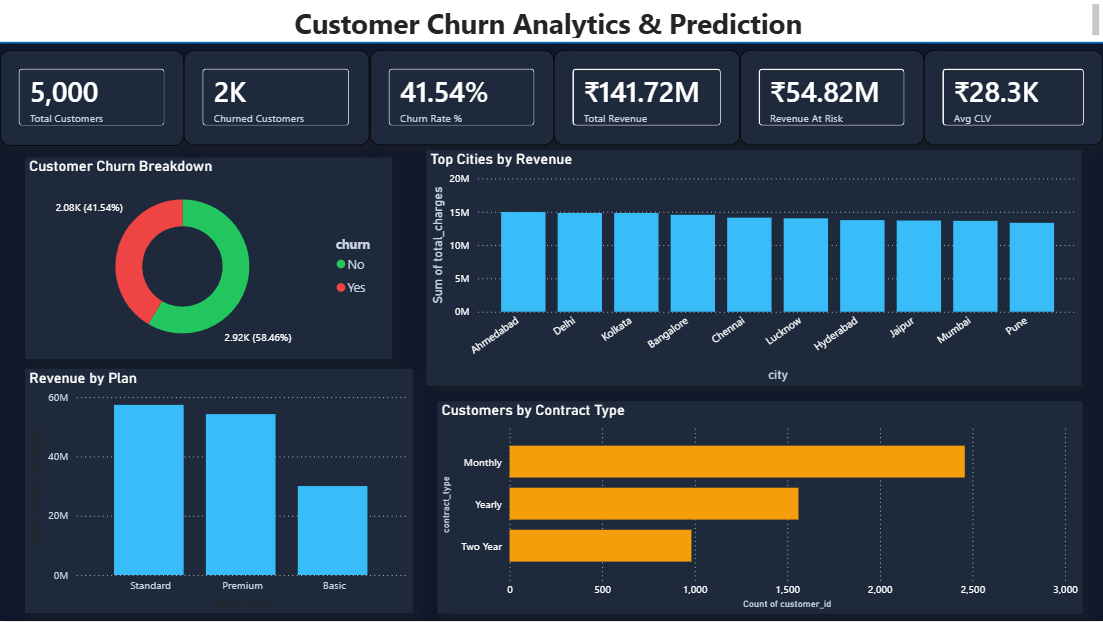

This screenshot's page, from the dashboard's own definition file:
{"tool":"powerbi","page":{"name":"Executive Overview","canvas":[1280,720],"ordinal":0},"visuals":[{"type":"textbox","box":[0,0,1279.7,49.3],"z":0},{"type":"shape","box":[0,41.9,1279.7,14.9],"z":1000},{"type":"cardVisual","fields":{"Data":["Measures .Total Customers"]},"box":[0,58.1,213.5,110.8],"z":2000},{"type":"cardVisual","fields":{"Data":["Measures .Churned Customers"]},"box":[213.6,58.1,214.9,110],"z":3000},{"type":"cardVisual","fields":{"Data":["Measures .Churn Rate %"]},"box":[428.5,58.1,213.2,110],"z":4000},{"type":"cardVisual","fields":{"Data":["Measures .Total Revenue"]},"box":[641.8,58.1,216.2,110.3],"z":5000},{"type":"cardVisual","fields":{"Data":["Measures .Revenue At Risk"]},"box":[858,58.1,213.5,110],"z":6000},{"type":"cardVisual","fields":{"Data":["Measures .Avg CLV"]},"box":[1071.6,58.1,208.1,110],"z":7000},{"type":"donutChart","title":"Customer Churn Breakdown","fields":{"Category":["customers.churn"],"Y":["CountNonNull(customers.customer_id)"]},"box":[29.6,183.1,425.4,233.8],"z":8000},{"type":"clusteredColumnChart","title":"Revenue by Plan","fields":{"Category":["customers.plan_type"],"Y":["Sum(customers.total_charges)"]},"box":[29.6,428.2,449.3,283.1],"z":9000},{"type":"clusteredBarChart","title":"Customers by Contract Type","fields":{"Category":["customers.contract_type"],"Y":["CountNonNull(customers.customer_id)"]},"box":[507,464.8,747.9,246.5],"z":10000},{"type":"columnChart","title":"Top Cities by Revenue","fields":{"Category":["customers.city"],"Y":["Sum(customers.total_charges)"]},"box":[494.1,173.5,760.3,273.5],"z":11000}]}

Visuals, with their boxes in screenshot pixels (x1, y1, x2, y2), scaled from the page's 1280x720 canvas onto the 1103x622 screenshot:
textbox: 0 0 1102 43
shape: 0 36 1102 49
cardVisual - Measures .Total Customers: 0 50 184 146
cardVisual - Measures .Churned Customers: 184 50 369 145
cardVisual - Measures .Churn Rate %: 369 50 553 145
cardVisual - Measures .Total Revenue: 553 50 739 145
cardVisual - Measures .Revenue At Risk: 739 50 923 145
cardVisual - Measures .Avg CLV: 923 50 1102 145
"Customer Churn Breakdown" donutChart: 26 158 392 360
"Revenue by Plan" clusteredColumnChart: 26 370 413 614
"Customers by Contract Type" clusteredBarChart: 437 402 1081 614
"Top Cities by Revenue" columnChart: 426 150 1081 386
